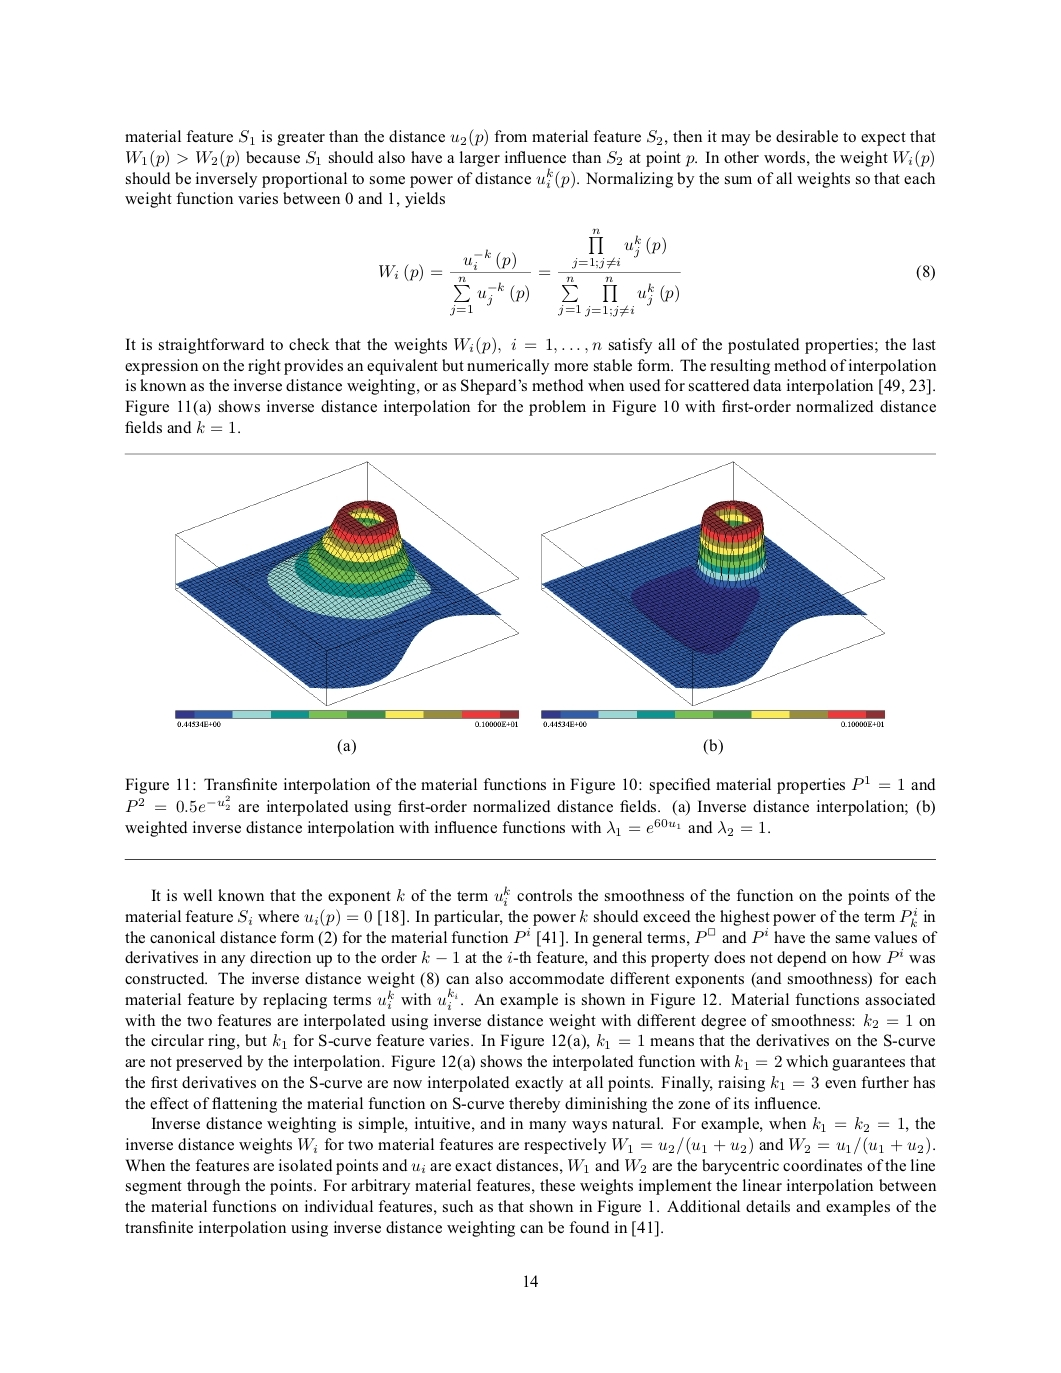figure: (175, 460, 518, 705), (541, 460, 884, 705), (175, 709, 518, 727), (541, 709, 884, 727), (124, 452, 935, 455)
formula: (379, 228, 934, 317)
